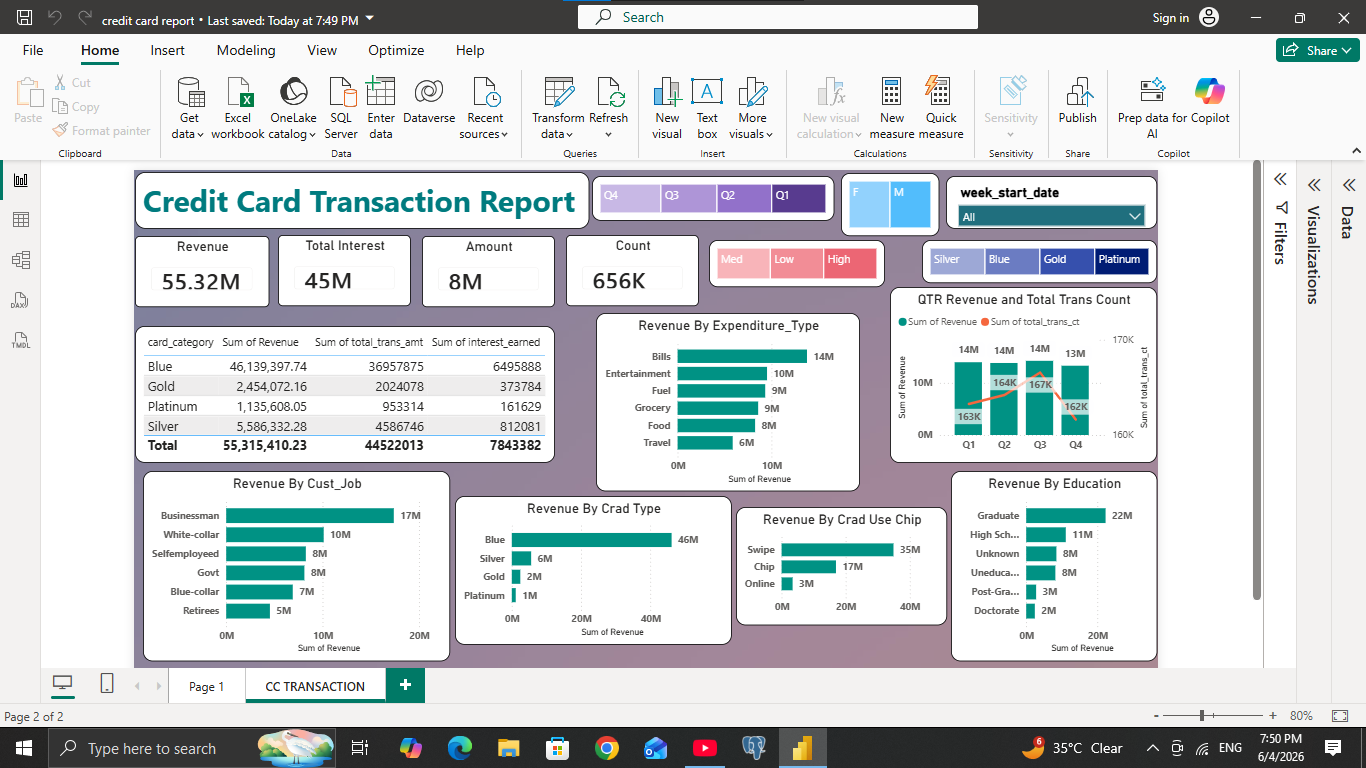

What the dashboard file says about the page in this screenshot:
{"tool":"powerbi","page":{"name":"CC TRANSACTION","canvas":[1280,720],"ordinal":1},"visuals":[{"type":"textbox","box":[1.2,2.5,567.5,71.2],"z":0},{"type":"lineStackedColumnComboChart","title":"QTR Revenue and Total Trans Count","fields":{"Category":["public cc_detail.qtr"],"Y":["Sum(public cc_detail.Revenue)"],"Y2":["Sum(public cc_detail.total_trans_ct)"]},"box":[945,146.2,333.8,220],"z":1000},{"type":"barChart","title":"Revenue By Expenditure_Type","fields":{"Y":["Sum(public cc_detail.Revenue)"],"Category":["public cc_detail.exp_type"]},"box":[577.1,178.6,330,222.9],"z":2000},{"type":"barChart","title":"Revenue By Education","fields":{"Y":["Sum(public cc_detail.Revenue)"],"Category":["public cust_detail.education_level"]},"box":[1021.2,376.2,257.5,237.5],"z":3000},{"type":"barChart","title":"Revenue By Cust_Job","fields":{"Y":["Sum(public cc_detail.Revenue)"],"Category":["public cust_detail.customer_job"]},"box":[11.2,376.2,383.8,237.5],"z":4000},{"type":"barChart","title":"Revenue By Crad Type","fields":{"Y":["Sum(public cc_detail.Revenue)"],"Category":["public cc_detail.card_category"]},"box":[401.4,407.1,345.7,185.7],"z":5000},{"type":"barChart","title":"Revenue By Crad Use Chip","fields":{"Y":["Sum(public cc_detail.Revenue)"],"Category":["public cc_detail.use_chip"]},"box":[752.5,421.2,263.8,147.5],"z":6000},{"type":"tableEx","fields":{"Values":["public cc_detail.card_category","Sum(public cc_detail.Revenue)","Sum(public cc_detail.total_trans_amt)","Sum(public cc_detail.interest_earned)"]},"box":[1.2,195,525,171.2],"z":7000},{"type":"cardVisual","title":"Revenue","fields":{"Data":["Sum(public cc_detail.Revenue)"]},"box":[1.2,82.5,167.5,88.8],"z":8000},{"type":"cardVisual","title":"Total Interest","fields":{"Data":["Sum(public cc_detail.total_trans_amt)"]},"box":[180,81.2,166.2,88.8],"z":9000},{"type":"cardVisual","title":"Amount","fields":{"Data":["Sum(public cc_detail.interest_earned)"]},"box":[360,82.5,166.2,88.8],"z":10000},{"type":"cardVisual","title":"Count","fields":{"Data":["Sum(public cc_detail.total_trans_ct)"]},"box":[540,81.2,166.2,88.8],"z":11000},{"type":"slicer","fields":{"Values":["public cc_detail.week_start_date"]},"box":[1015,7.5,263.8,66.2],"z":12000},{"type":"treemap","fields":{"Group":["public cc_detail.qtr"],"Values":["Avg(public cc_detail.client_num)"]},"box":[572.5,7.5,302.5,56.2],"z":13000},{"type":"treemap","fields":{"Values":["Avg(public cc_detail.client_num)"],"Group":["public cust_detail.gender"]},"box":[883.8,3.8,122.5,78.8],"z":14000},{"type":"treemap","fields":{"Values":["Avg(public cc_detail.client_num)"],"Group":["public cc_detail.card_category"]},"box":[985,87.5,293.8,53.8],"z":15000},{"type":"treemap","fields":{"Values":["Avg(public cc_detail.client_num)"],"Group":["public cust_detail.IncomeGroup"]},"box":[718.8,87.5,220,58.8],"z":16000}]}

Visuals, with their boxes on the page's 1280x720 design canvas (x1, y1, x2, y2). These are canvas units, not pixel positions in the 1366x768 screenshot, which may show the page scaled, cropped or inside an application window:
textbox: <region>1, 2, 569, 74</region>
"QTR Revenue and Total Trans Count" lineStackedColumnComboChart: <region>945, 146, 1279, 366</region>
"Revenue By Expenditure_Type" barChart: <region>577, 179, 907, 402</region>
"Revenue By Education" barChart: <region>1021, 376, 1279, 614</region>
"Revenue By Cust_Job" barChart: <region>11, 376, 395, 614</region>
"Revenue By Crad Type" barChart: <region>401, 407, 747, 593</region>
"Revenue By Crad Use Chip" barChart: <region>752, 421, 1016, 569</region>
tableEx - public cc_detail.card_category x Sum(public cc_detail.Revenue): <region>1, 195, 526, 366</region>
"Revenue" cardVisual: <region>1, 82, 169, 171</region>
"Total Interest" cardVisual: <region>180, 81, 346, 170</region>
"Amount" cardVisual: <region>360, 82, 526, 171</region>
"Count" cardVisual: <region>540, 81, 706, 170</region>
slicer - public cc_detail.week_start_date: <region>1015, 8, 1279, 74</region>
treemap - public cc_detail.qtr x Avg(public cc_detail.client_num): <region>572, 8, 875, 64</region>
treemap - Avg(public cc_detail.client_num) x public cust_detail.gender: <region>884, 4, 1006, 83</region>
treemap - Avg(public cc_detail.client_num) x public cc_detail.card_category: <region>985, 88, 1279, 141</region>
treemap - Avg(public cc_detail.client_num) x public cust_detail.IncomeGroup: <region>719, 88, 939, 146</region>
